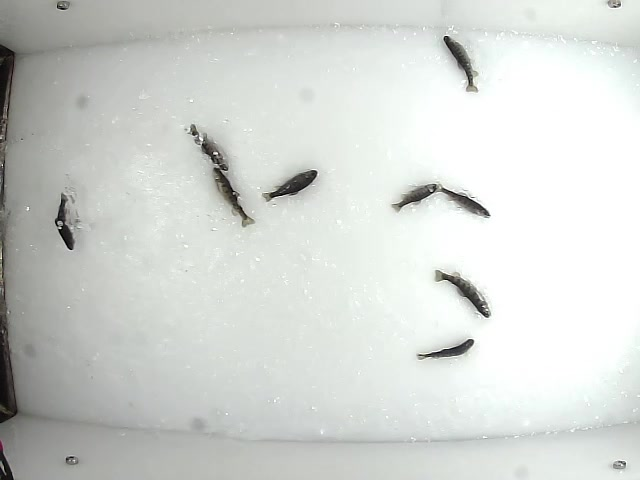fish: (433, 268, 492, 319), (212, 165, 258, 228), (185, 122, 231, 171), (442, 34, 479, 94), (261, 168, 318, 203), (436, 184, 490, 218), (389, 179, 440, 213), (53, 191, 79, 253), (415, 339, 474, 360)
